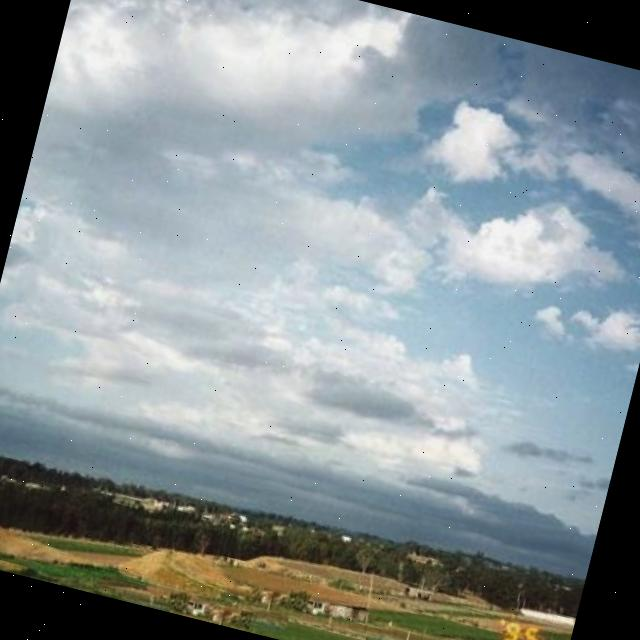St: (1, 1, 640, 537)
